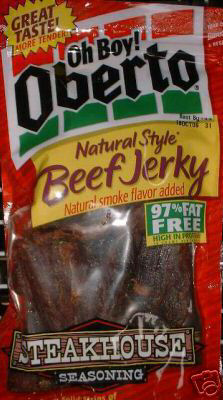grozi_78: (0, 0, 223, 400)
